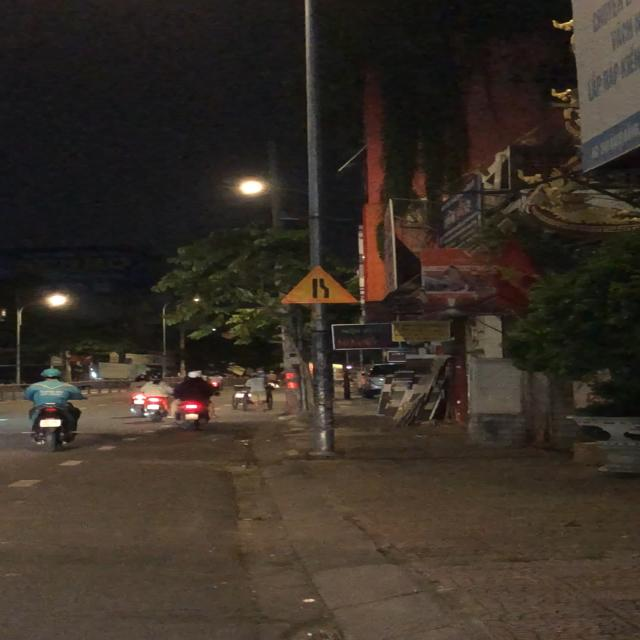Bien bao duong bi thu hep: (279, 266, 360, 305)
